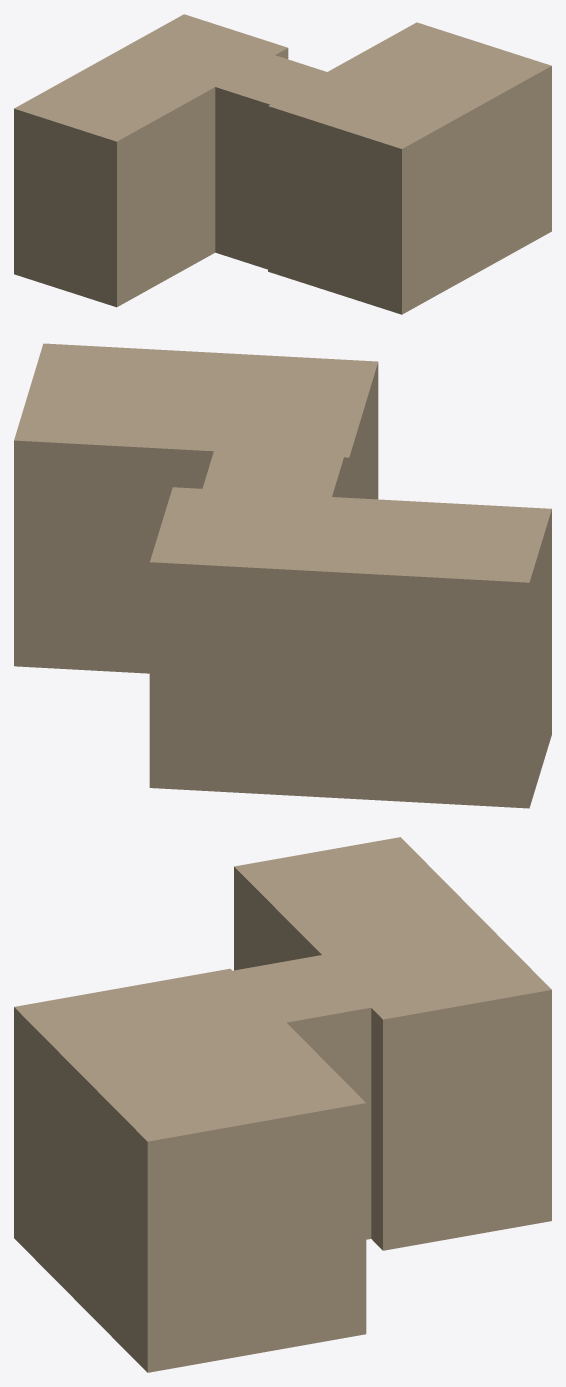
The model's file is bld_106796791.dae.
3 renders of one model, top to bottom at view 1: azimuth 30°, elevation 25°; view 2: azimuth 150°, elevation 25°; view 3: azimuth 270°, elevation 25°, orthographic. The views are drawn at different scales.
Parts seen in each view (by area): view 1: bld_106796791; view 2: bld_106796791; view 3: bld_106796791.
Boxes of the visible parts, x1=… form: bld_106796791: x1=14, y1=14, x2=551, y2=314; bld_106796791: x1=14, y1=343, x2=551, y2=808; bld_106796791: x1=14, y1=837, x2=551, y2=1372.
Size of the model in its own units: 22.61 by 16.87 by 8.
